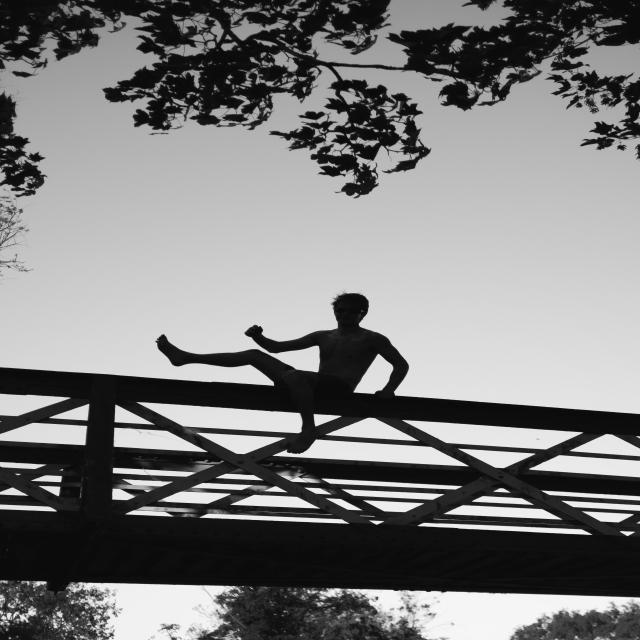adult: (154, 294, 410, 406)
